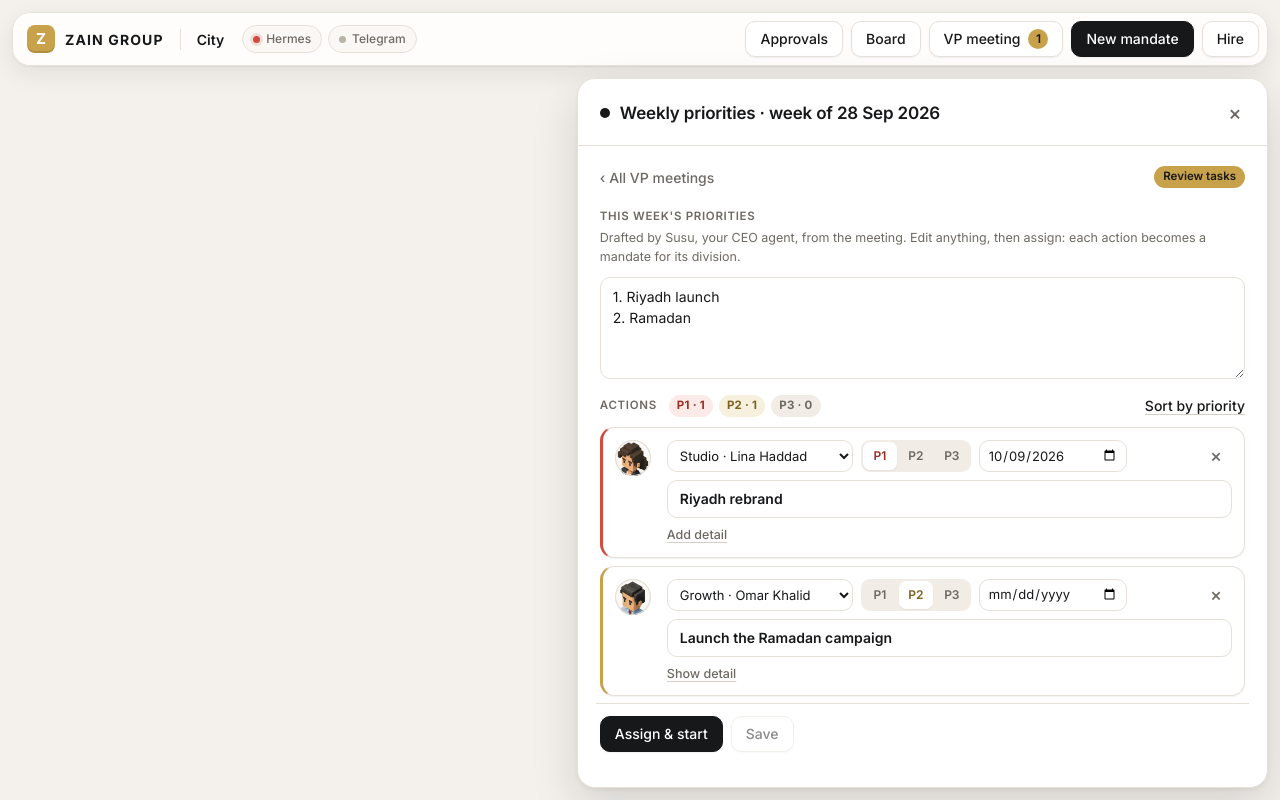
Test: Leadership review › marks every row failed when the server could assign none
What coordinates should you click on to do the following:
click the button "Assign & start"
I would click on:
 (661, 734)
Its box is x1=600 y1=716 x2=723 y2=752.
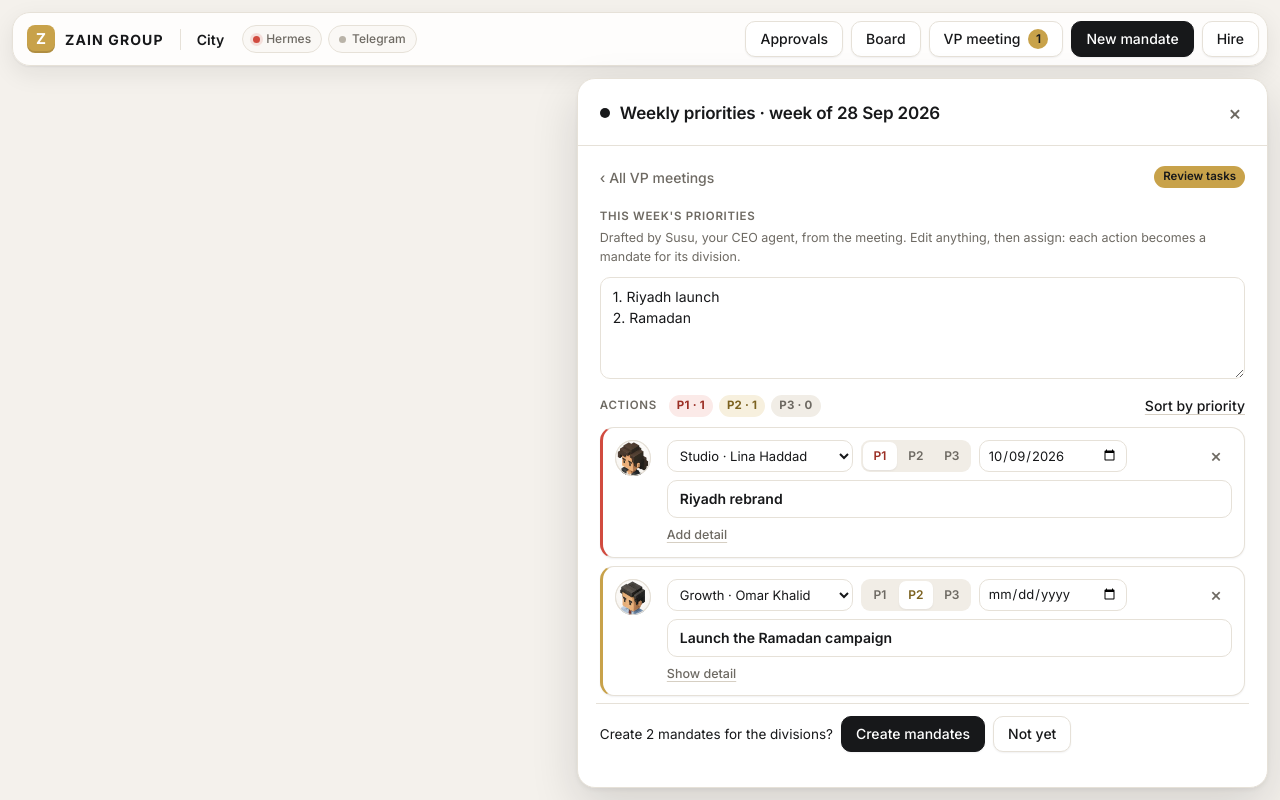
What coordinates should you click on to do the following:
click the button "Create mandates"
I would click on:
 (913, 734)
Its box is x1=841 y1=716 x2=985 y2=752.
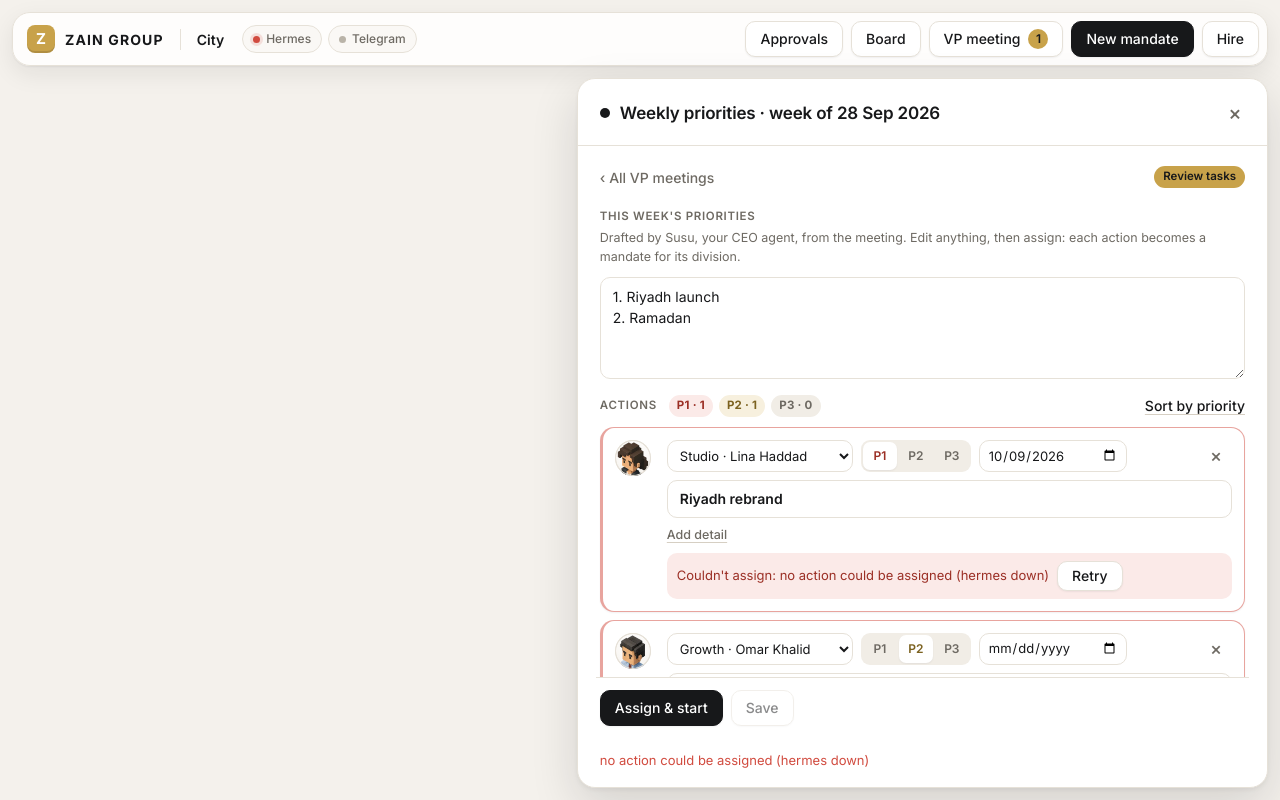
Expected: the text "Couldn't assign: no action could be assigned (hermes down)" is shown 2 times, x1=677 y1=566 x2=1049 y2=585; x1=677 y1=758 x2=1049 y2=778
